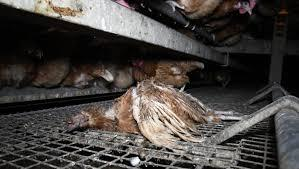AbNormal: (61, 75, 223, 148)
